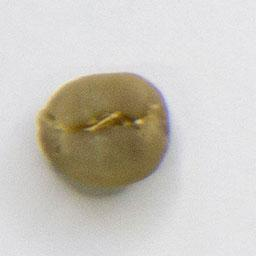premium: (32, 65, 177, 193)
